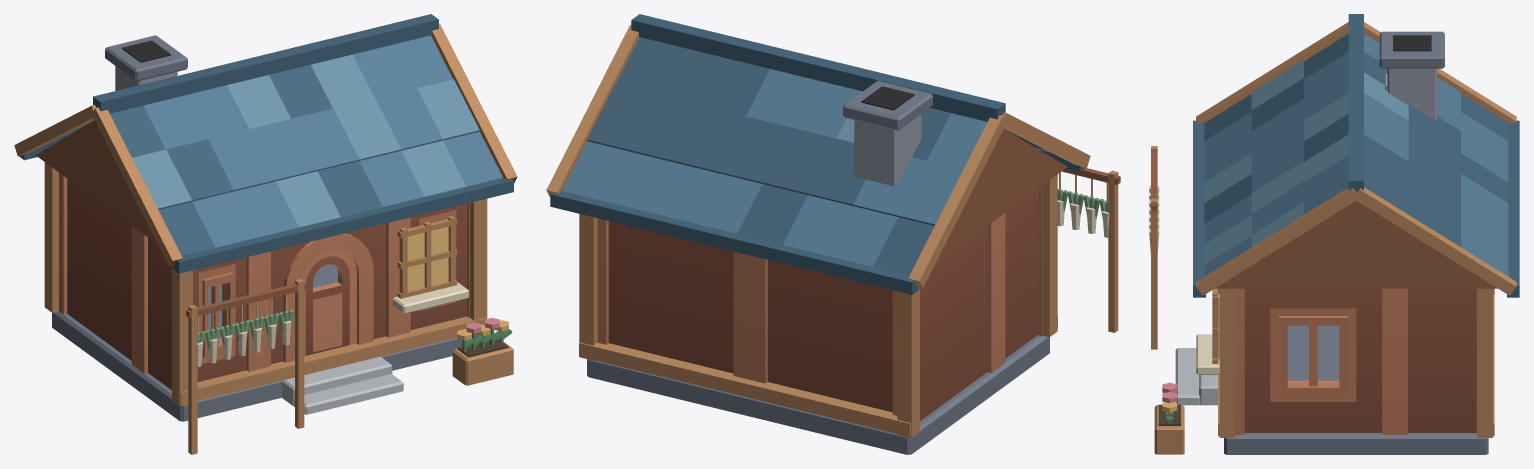
The model's file is house_c.glb.
3 views of the same model, side by side, from view 1: azimuth 30°, elevation 25°; view 2: azimuth 150°, elevation 25°; view 3: azimuth 270°, elevation 25° (orthographic). The views are drawn at different scales.
Parts seen in each view (by area): view 1: house_c_建筑共用调色板.004, house_c_fantasy-town-kit 调色板; view 2: house_c_建筑共用调色板.004, house_c_fantasy-town-kit 调色板; view 3: house_c_建筑共用调色板.004, house_c_fantasy-town-kit 调色板.
Boxes of the visible parts, <box> form: house_c_建筑共用调色板.004: <box>14,14,517,454</box>; house_c_fantasy-town-kit 调色板: <box>59,172,469,389</box>; house_c_建筑共用调色板.004: <box>546,14,1120,454</box>; house_c_fantasy-town-kit 调色板: <box>597,186,1042,420</box>; house_c_建筑共用调色板.004: <box>1149,14,1519,454</box>; house_c_fantasy-town-kit 调色板: <box>1235,288,1477,434</box>.
Size of the model in its own units: 4.77 by 3.75 by 4.31.
2 materials, 2 textured.
